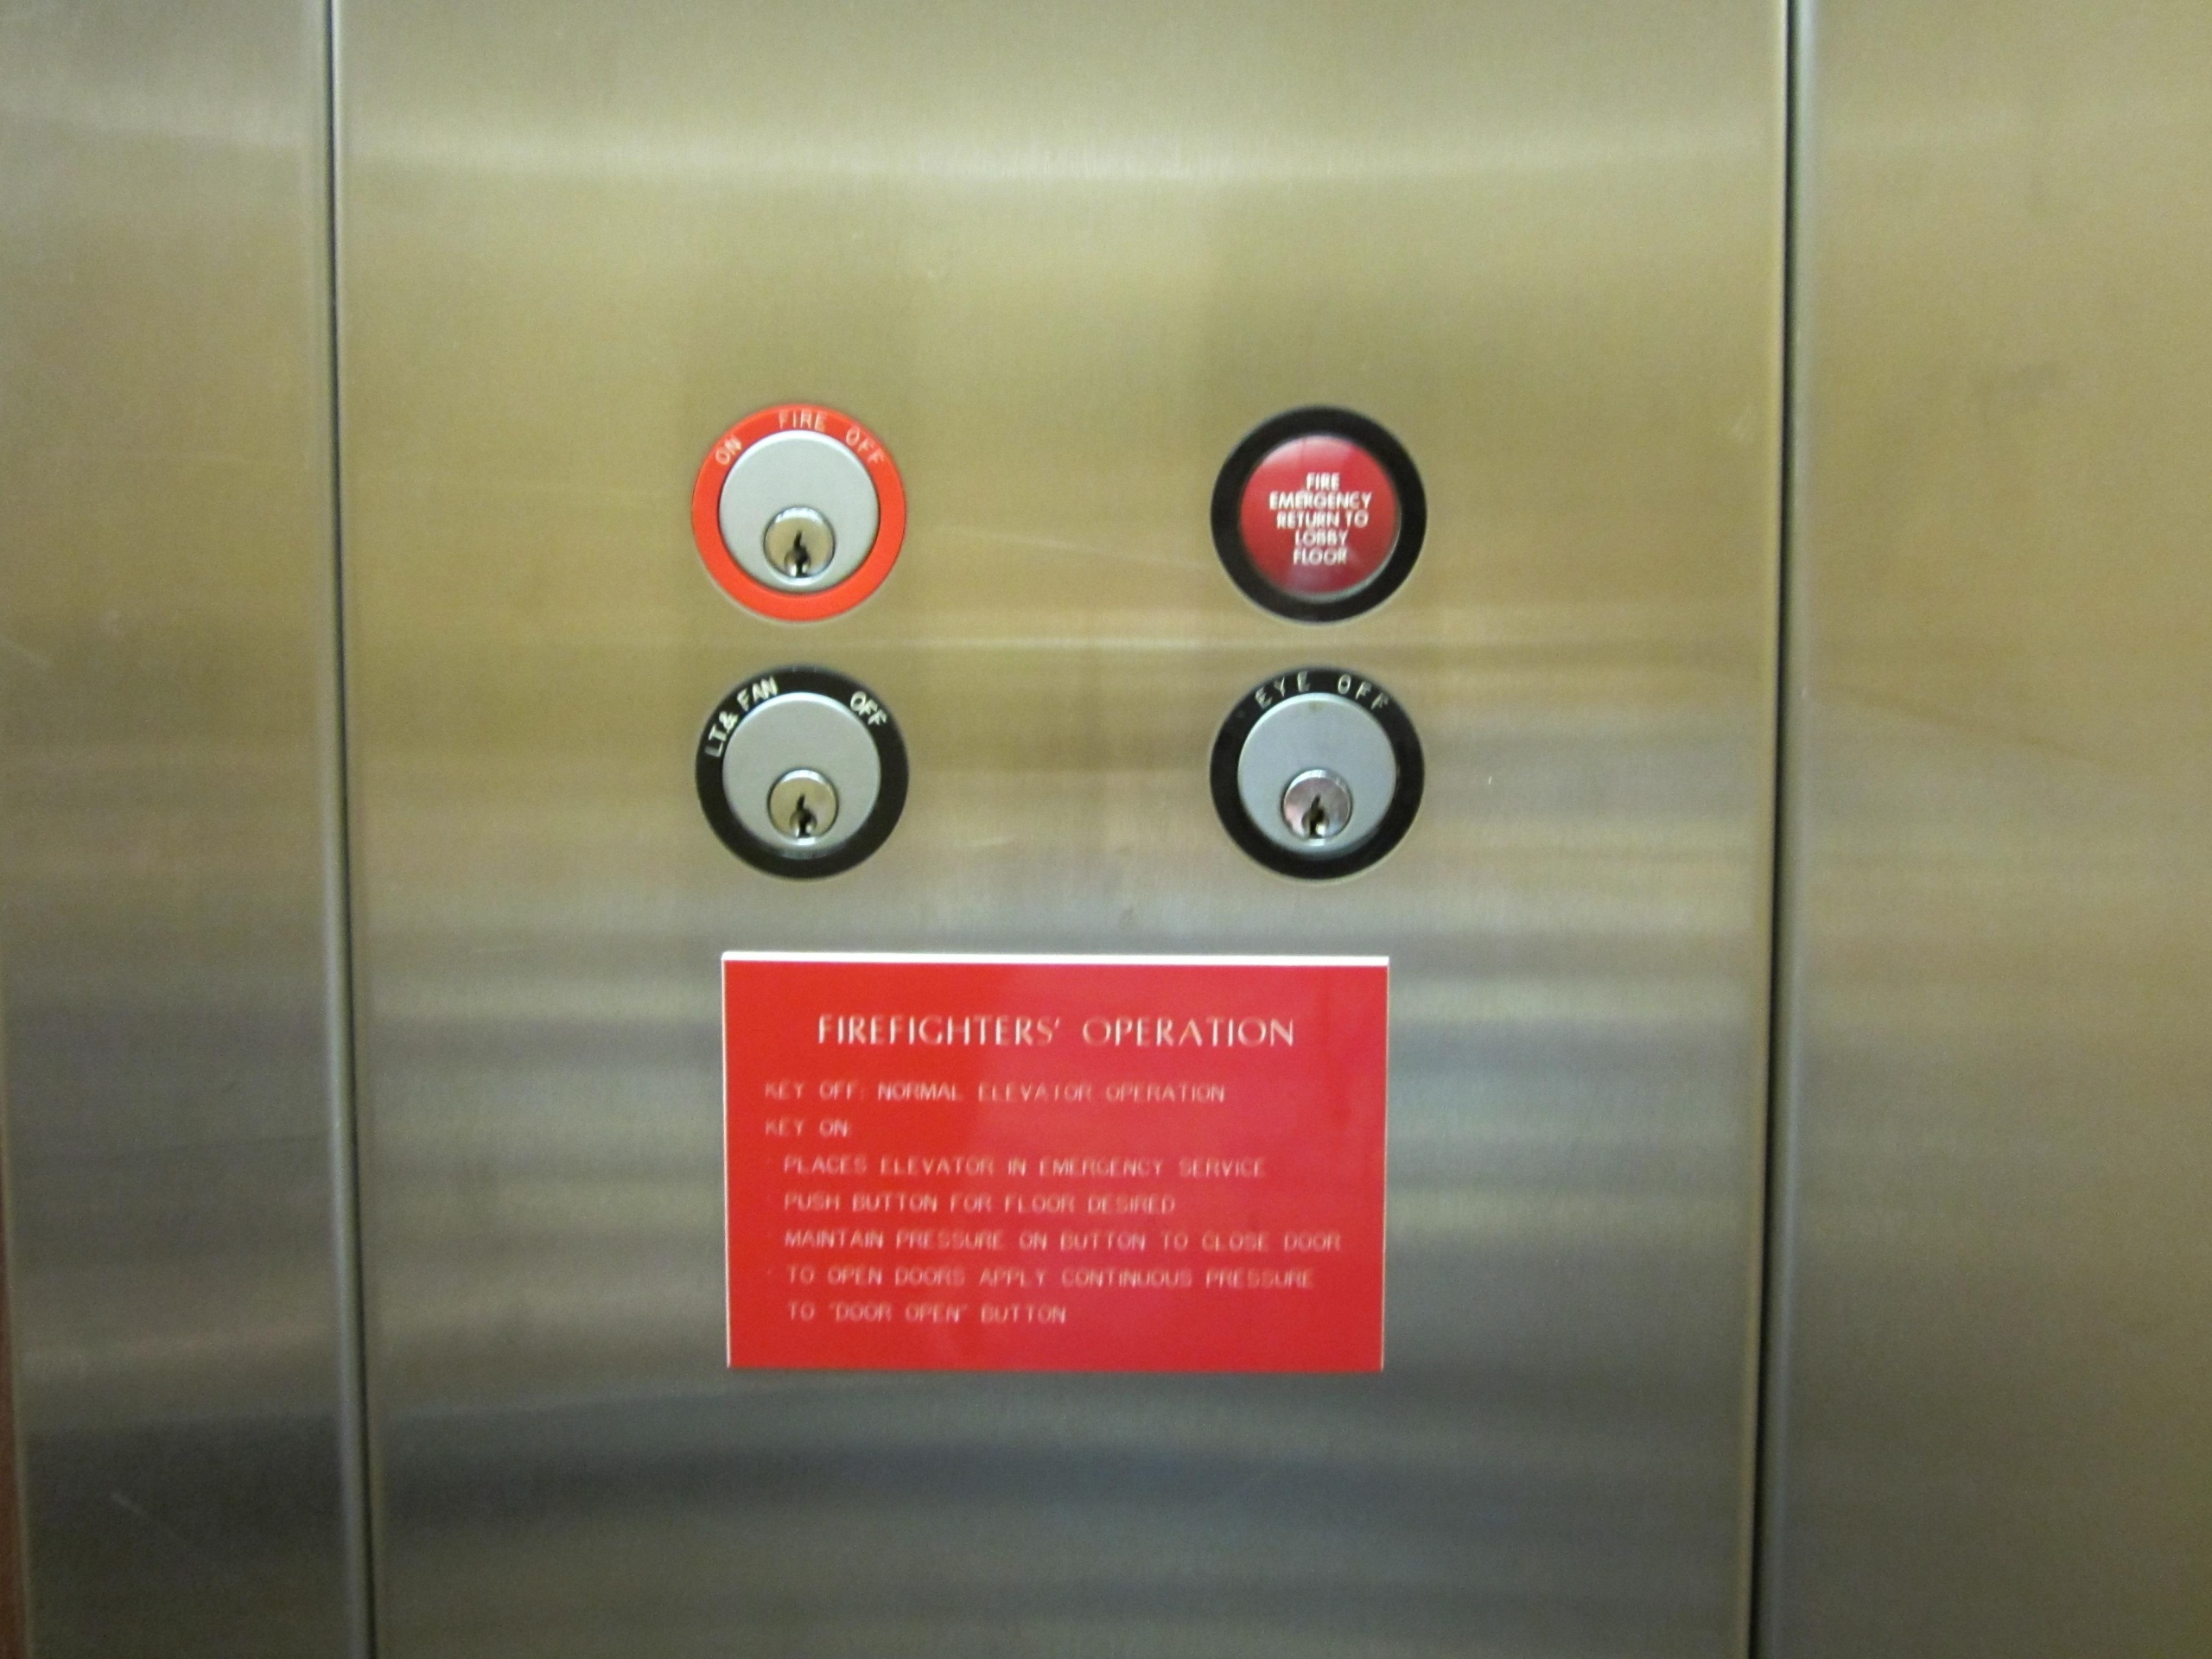keyhole: (683, 385, 913, 640), (1202, 655, 1439, 889), (690, 652, 923, 885)
text: (1200, 389, 1440, 636)
